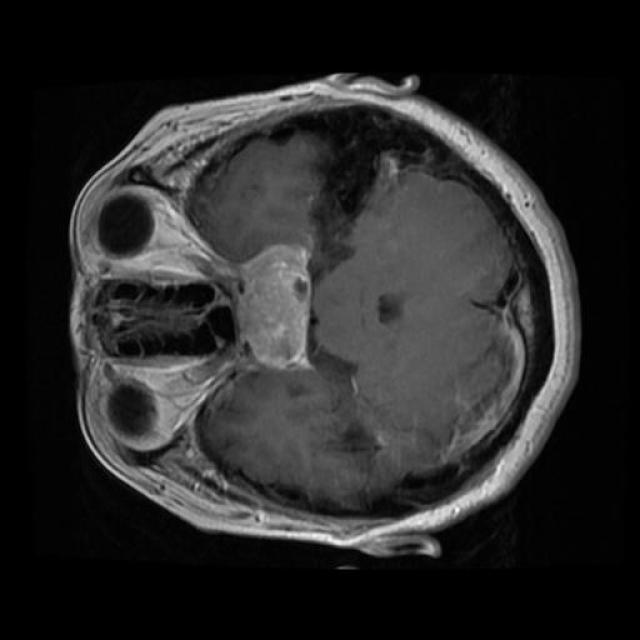Pituitary: (238, 245, 310, 368)
